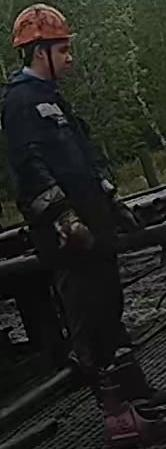gloves: (34, 187, 96, 257), (89, 181, 144, 241)
helmet: (10, 3, 75, 48)
vest: (1, 71, 119, 265)
